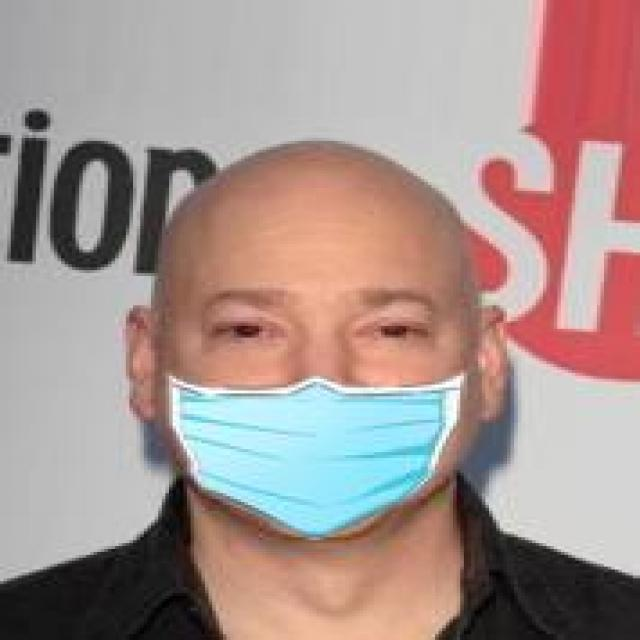mask: (133, 135, 489, 537)
